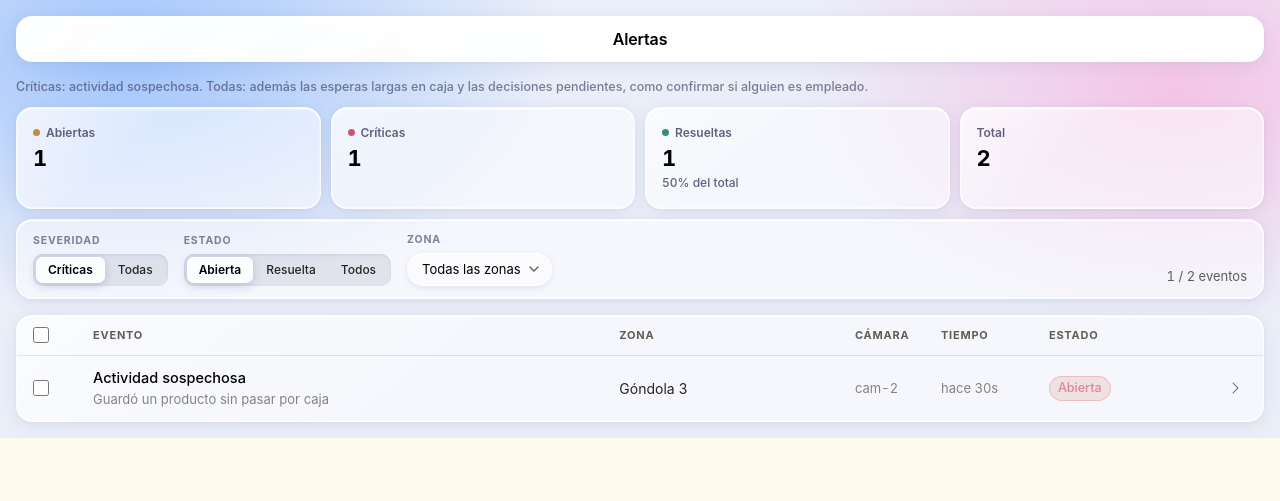
it: detalle y resolver › una espera en caja resuelta sale de "Abierta", sigue sin cartel de estado
Expected: the text "Actividad sospechosa" is shown, [93, 369, 246, 386]
Click the button "Todas".
click(135, 270)  # box [106, 257, 165, 283]
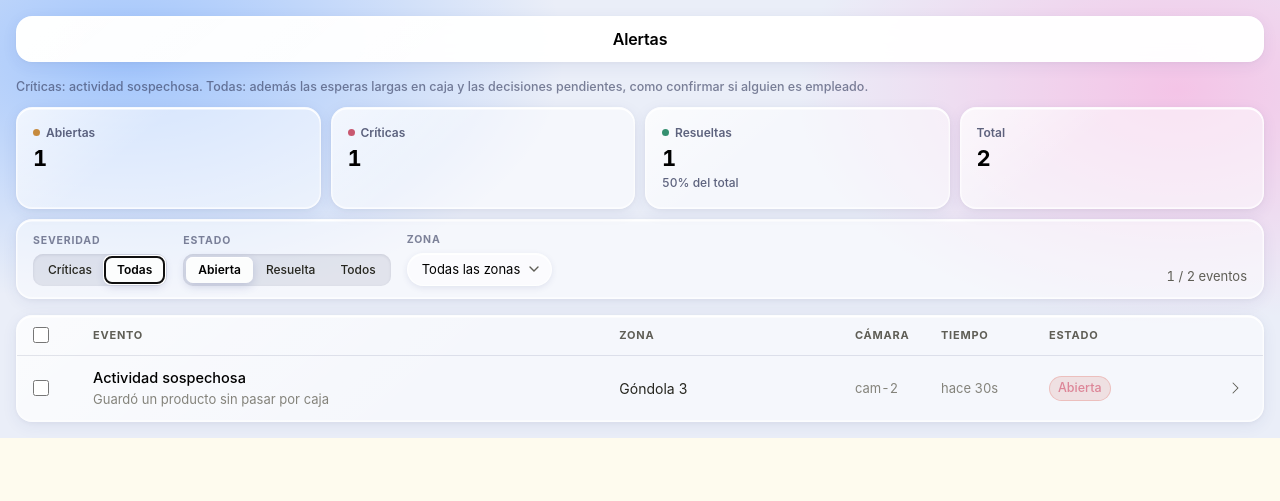
Click the button "Todos".
click(358, 270)  # box [328, 257, 388, 283]
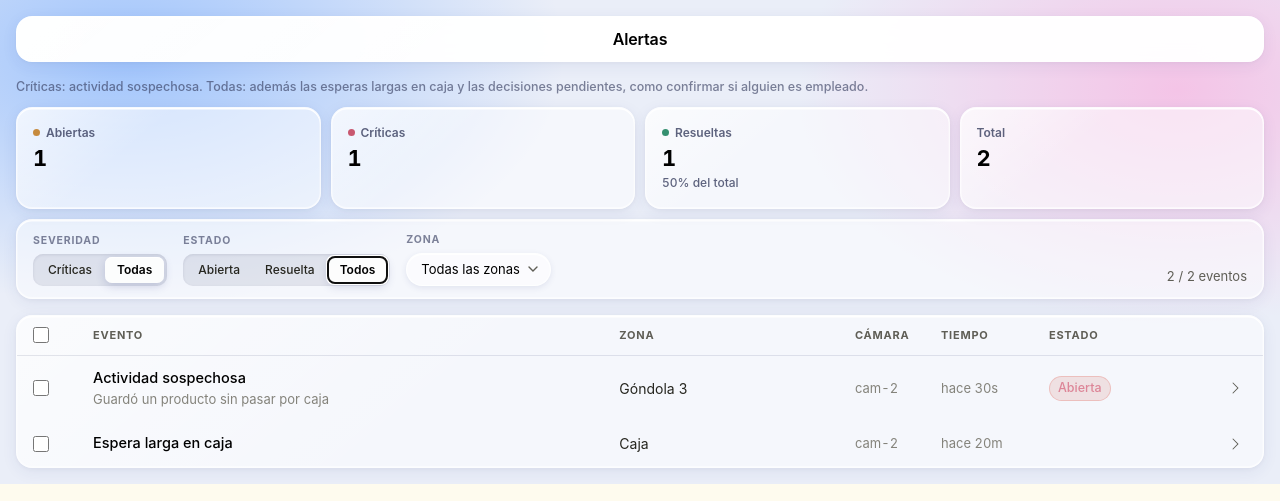
Click the button "Abierta".
click(219, 270)  # box [186, 257, 252, 283]
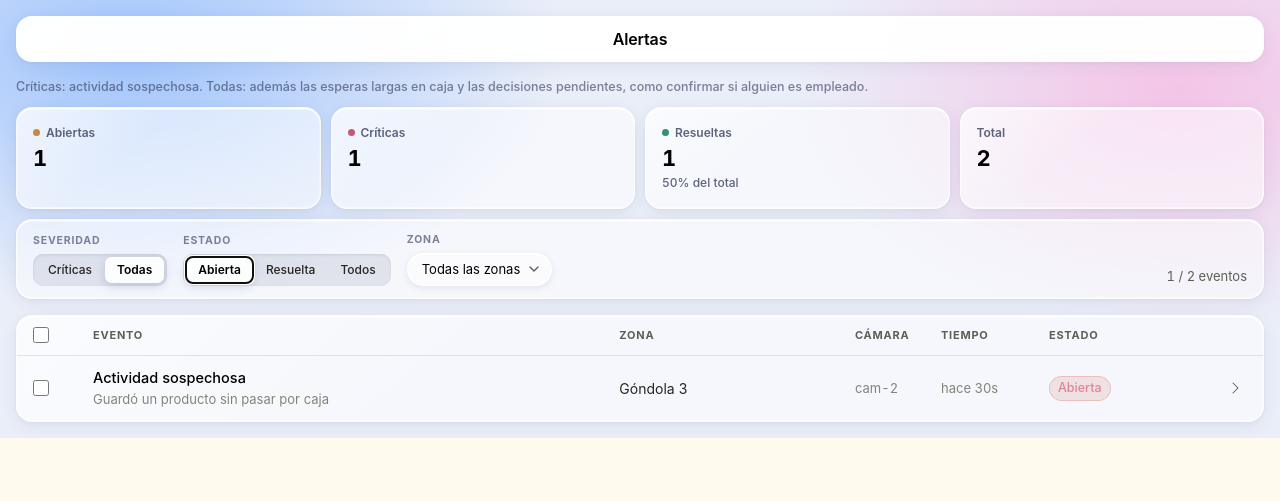
Result: the text "Espera larga en caja" is gone
Click the button "Resuelta".
click(291, 270)  # box [254, 257, 327, 283]
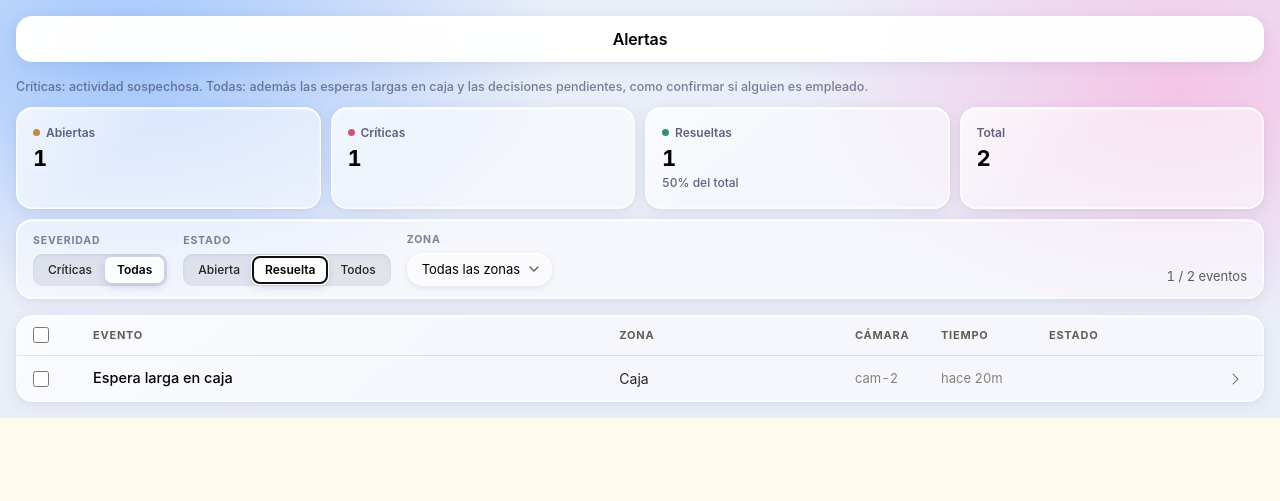
Result: the text "Espera larga en caja" is shown at [93, 369, 233, 386]
